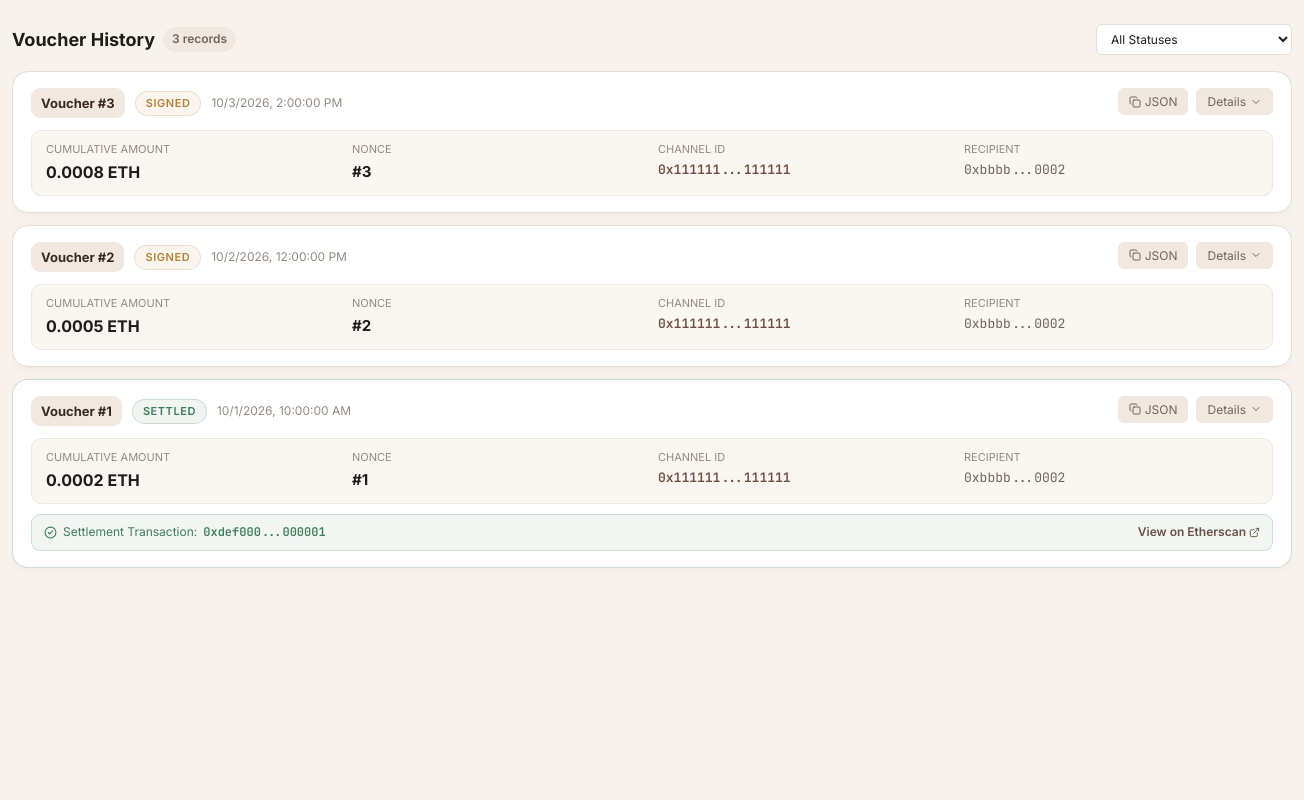
CRITICAL PAYMENT SAFETY RULE — VOUCHER AMOUNT & HISTORY › Voucher History Preservation — Never Overwrite › allows expanding and viewing cryptographic EIP-712 details
Click the button "Details" in the row of "10/3/2026, 2:00:00 PM": point(1235, 102) [1196,88,1273,115]
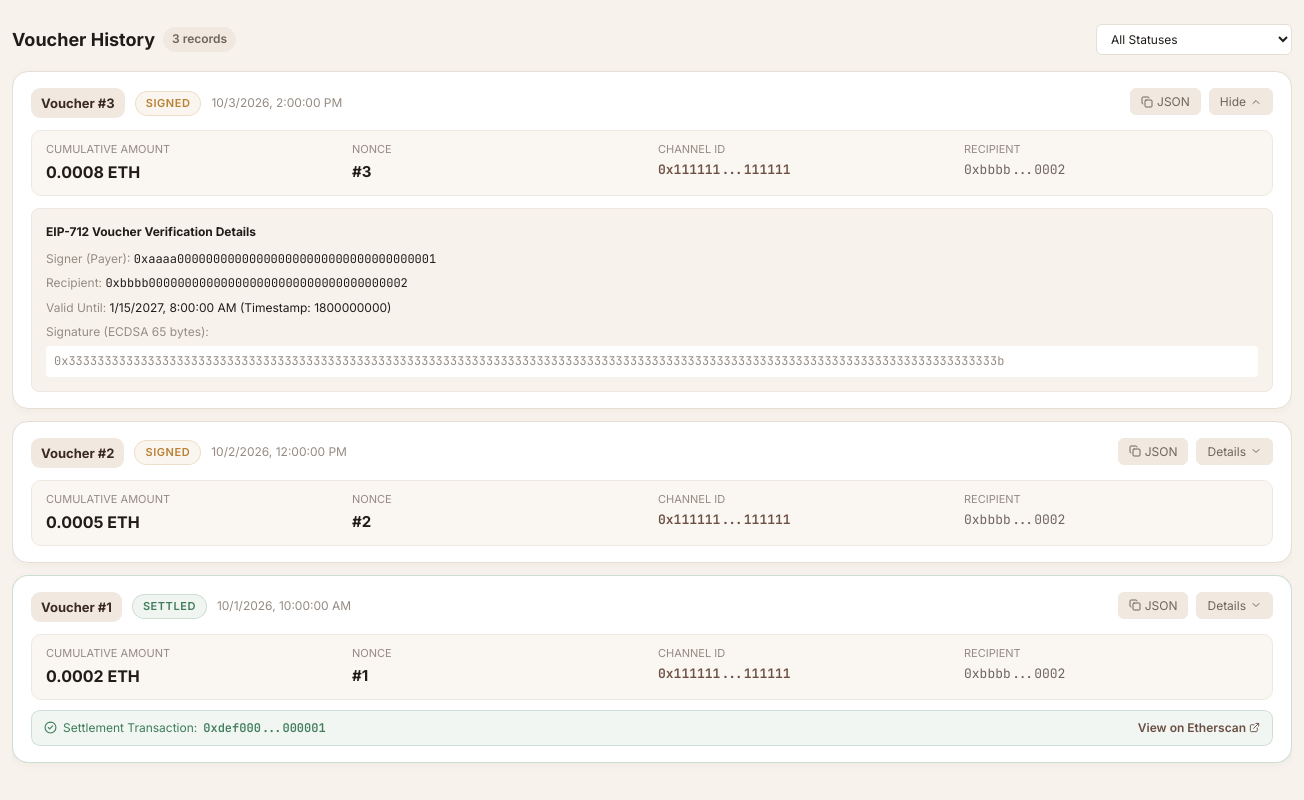
Check: the text "EIP-712 Voucher Verification Details" is shown, box [46,224,256,239]
Check: the text "Signature (ECDSA 65 bytes):" is shown, box [46,324,209,339]
